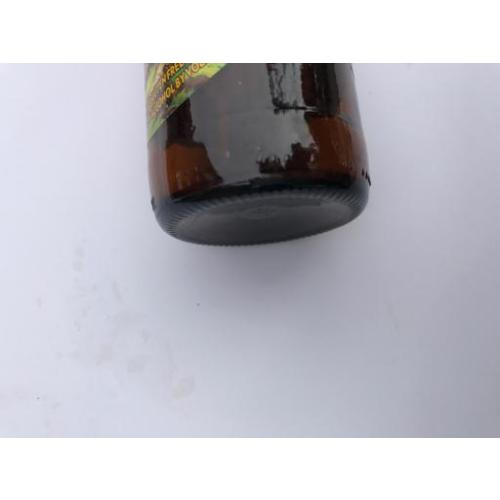glass: (148, 62, 366, 241)
